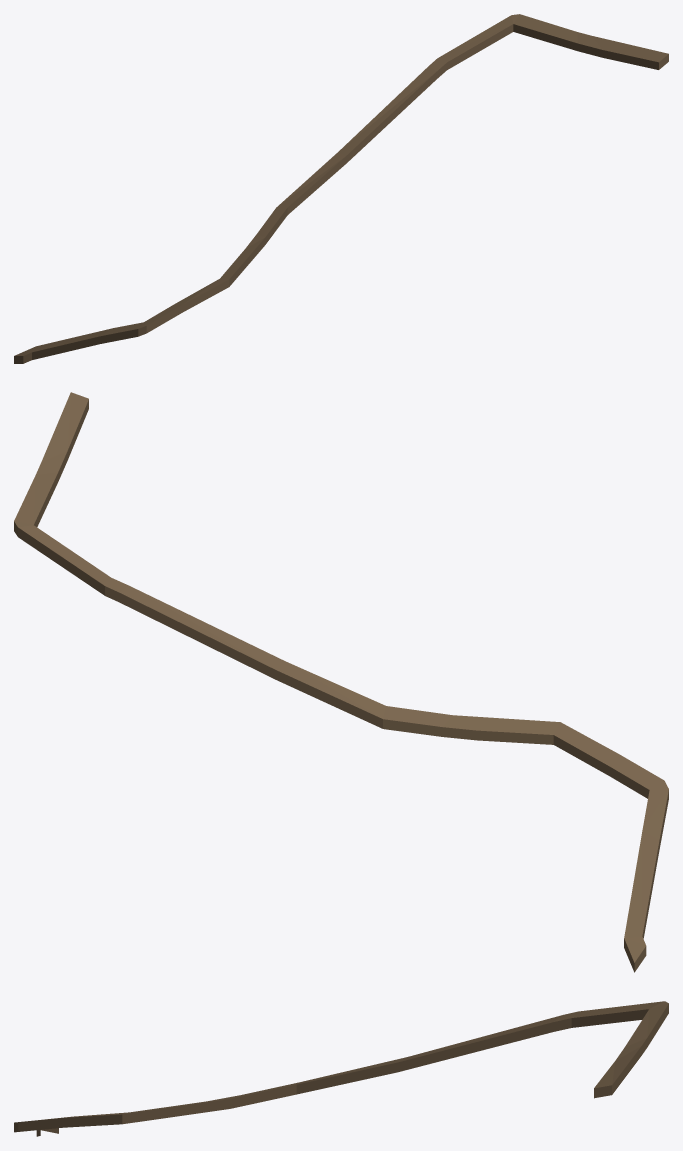
3 renders of one model, top to bottom at view 1: azimuth 30°, elevation 25°; view 2: azimuth 150°, elevation 25°; view 3: azimuth 330°, elevation 25°, orthographic. The views are drawn at different scales.
Size of the model in its own units: 51.43 by 22.39 by 17.08.
